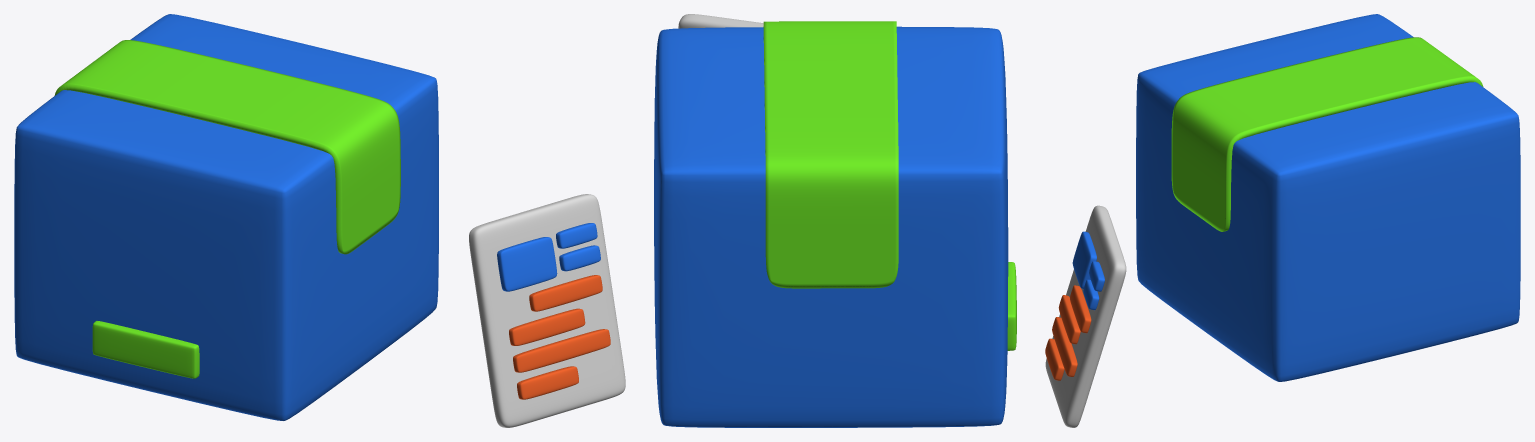
File: product-description-3d-animated-icon-1514928497585.glb
3 renders of one model, left to right at view 1: azimuth 30°, elevation 25°; view 2: azimuth 150°, elevation 25°; view 3: azimuth 270°, elevation 25°, orthographic. The views are drawn at different scales.
Parts seen in each view (by area): view 1: box, flap top, paper, data 3, label, data 1, data 2; view 2: box, flap top, paper, label; view 3: box, flap top, paper, data 3, data 1, data 2.
Boxes of the visible parts, box(x1,y1,x2,y2) form: box: box(14, 14, 438, 420); flap top: box(54, 40, 400, 254); paper: box(469, 194, 625, 427); data 3: box(509, 275, 610, 399); label: box(92, 321, 199, 378); data 1: box(497, 237, 557, 291); data 2: box(556, 223, 600, 271); box: box(654, 26, 1008, 427); flap top: box(763, 21, 898, 288); paper: box(678, 14, 763, 28); label: box(1007, 262, 1016, 350); box: box(1136, 14, 1520, 381); flap top: box(1171, 37, 1483, 231); paper: box(1045, 205, 1126, 427); data 3: box(1045, 285, 1091, 380); data 1: box(1072, 231, 1096, 288); data 2: box(1083, 261, 1104, 310).
Size of the model in its own units: 3.25 by 1.84 by 3.36.
